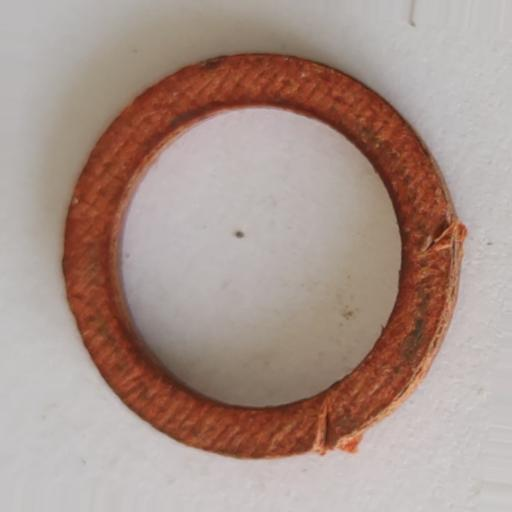defect: (313, 401, 364, 458), (423, 212, 469, 258)
